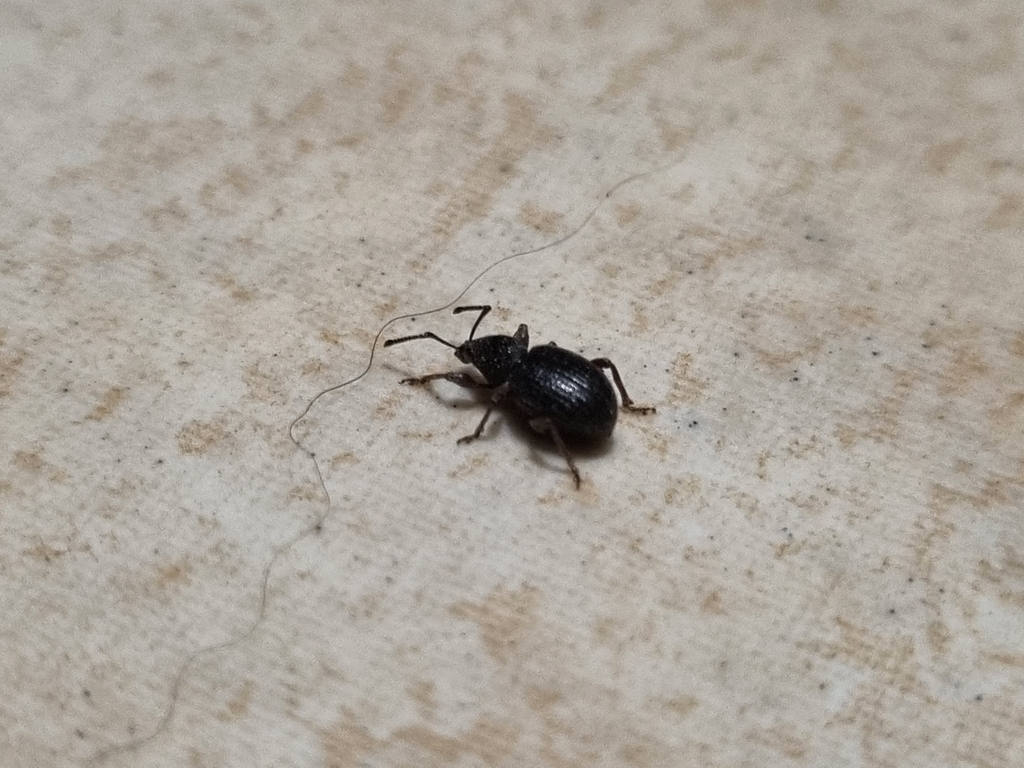weevils: (330, 252, 707, 542)
